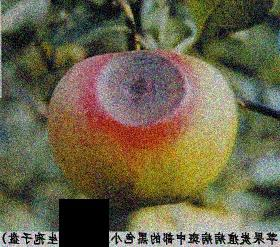rotten apple: (46, 48, 238, 207)
